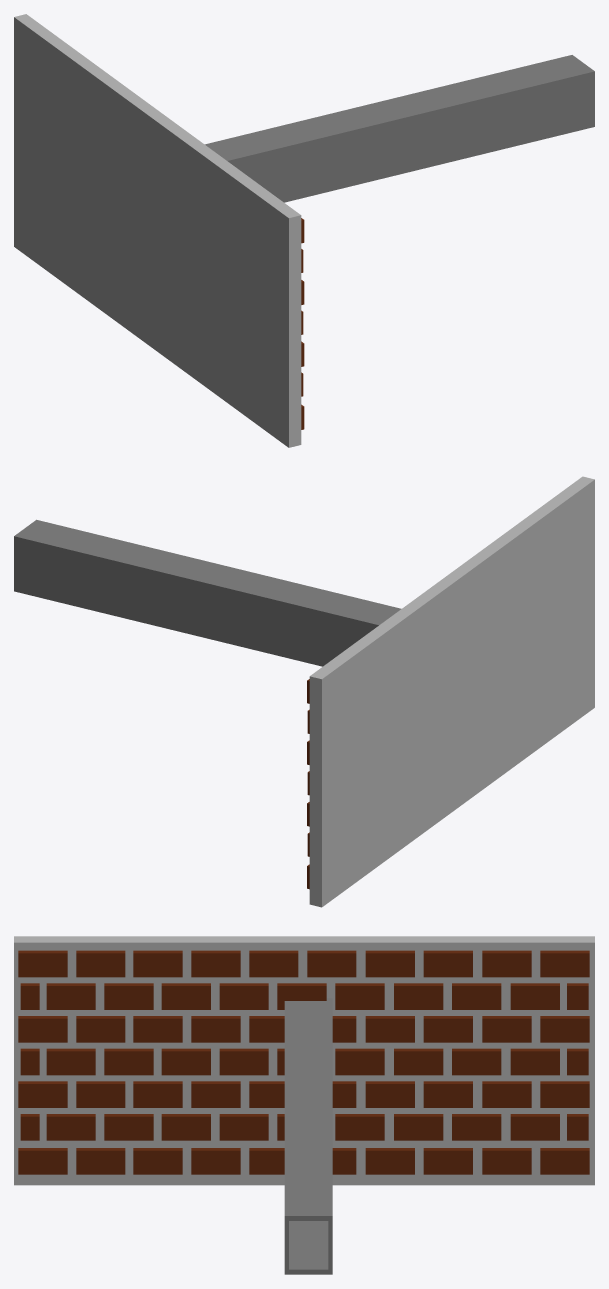
The model's file is Modelo (Perlin Rectangular, Muro).fbx.
The picture shows the model from 3 angles, top to bottom: view 1: azimuth 30°, elevation 25°; view 2: azimuth 150°, elevation 25°; view 3: azimuth 270°, elevation 25°; orthographic projection. The views are drawn at different scales.
Visible parts, largest first — view 1: Muro Completo.004, Perlin Rectangular.001; view 2: Muro Completo.004, Perlin Rectangular.001; view 3: Muro Completo.004, Perlin Rectangular.001.
Boxes of the visible parts, x1,y1,x2,y2 form: Muro Completo.004: [14, 14, 304, 447]; Perlin Rectangular.001: [205, 55, 594, 202]; Muro Completo.004: [307, 476, 594, 907]; Perlin Rectangular.001: [14, 519, 401, 666]; Muro Completo.004: [14, 936, 594, 1185]; Perlin Rectangular.001: [284, 998, 332, 1274].
Bounding box in the file's own units: 1167 × 590 × 1279.
